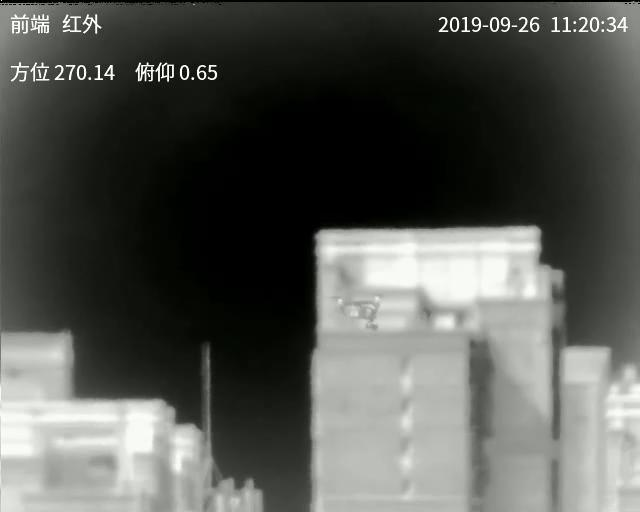uav: (333, 292, 383, 336)
